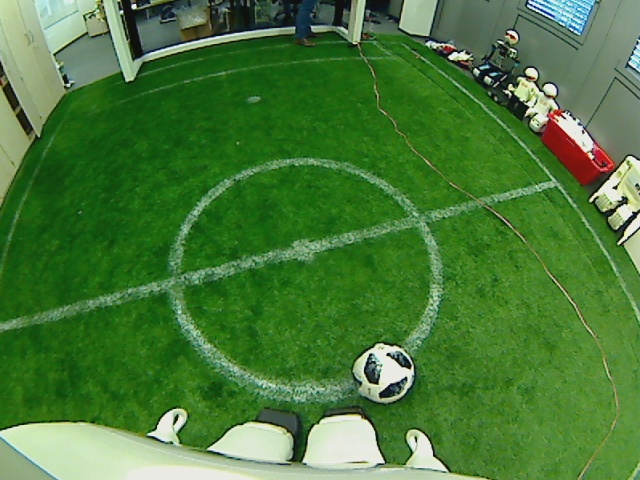ball: (351, 342, 417, 403)
